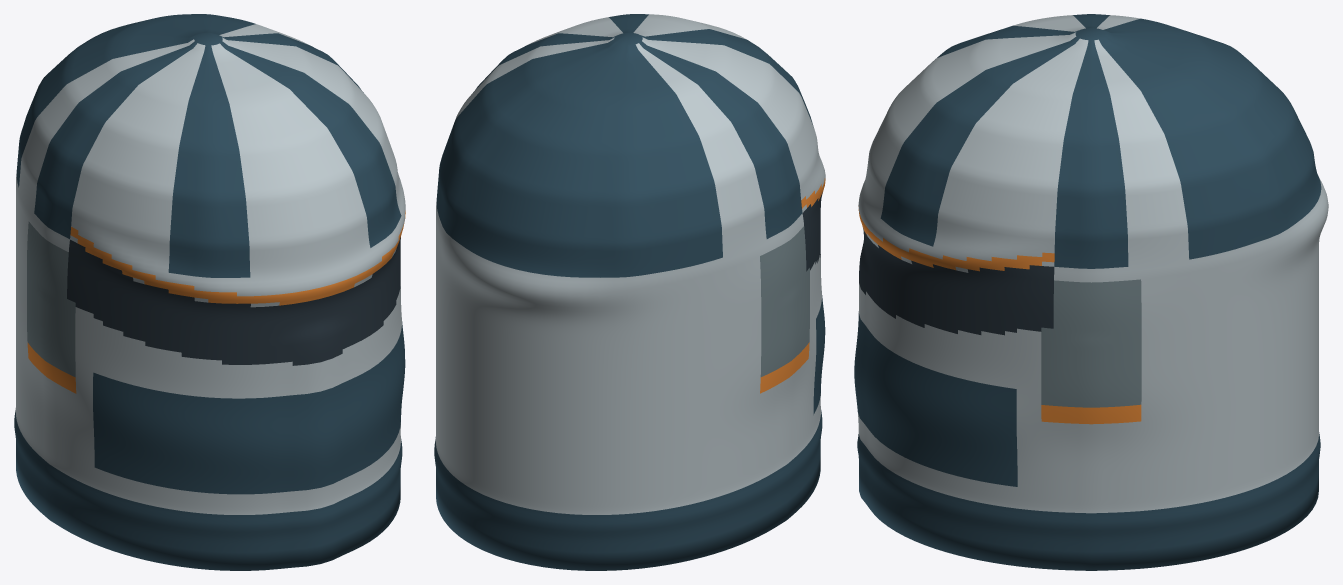
File: helmet.glb
The picture shows the model from 3 angles, left to right: view 1: azimuth 30°, elevation 25°; view 2: azimuth 150°, elevation 25°; view 3: azimuth 270°, elevation 25°; orthographic projection. The views are drawn at different scales.
Parts seen in each view (by area): view 1: 弦月勘探盔; view 2: 弦月勘探盔; view 3: 弦月勘探盔.
Boxes of the visible parts, <box> form: 弦月勘探盔: <box>14,14,405,570</box>; 弦月勘探盔: <box>434,14,825,570</box>; 弦月勘探盔: <box>854,14,1328,570</box>.
Size of the model in its own units: 0.1857 by 0.2396 by 0.2254.
